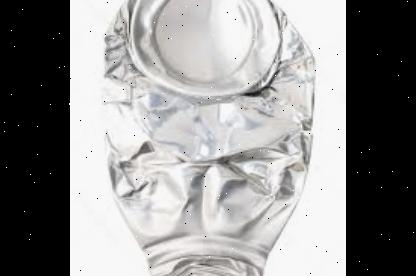Can: (96, 0, 318, 276)
